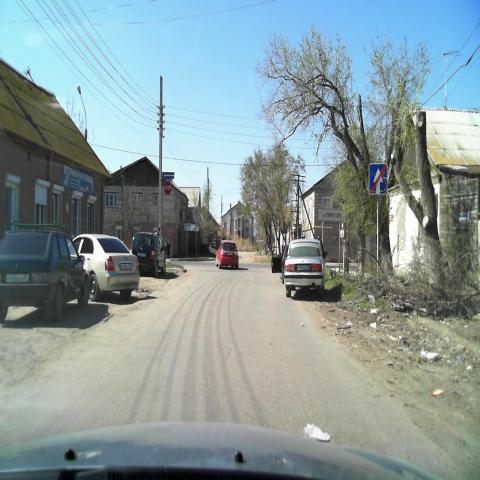5_6: (368, 162, 388, 194)
5_7_2: (162, 170, 174, 180)
